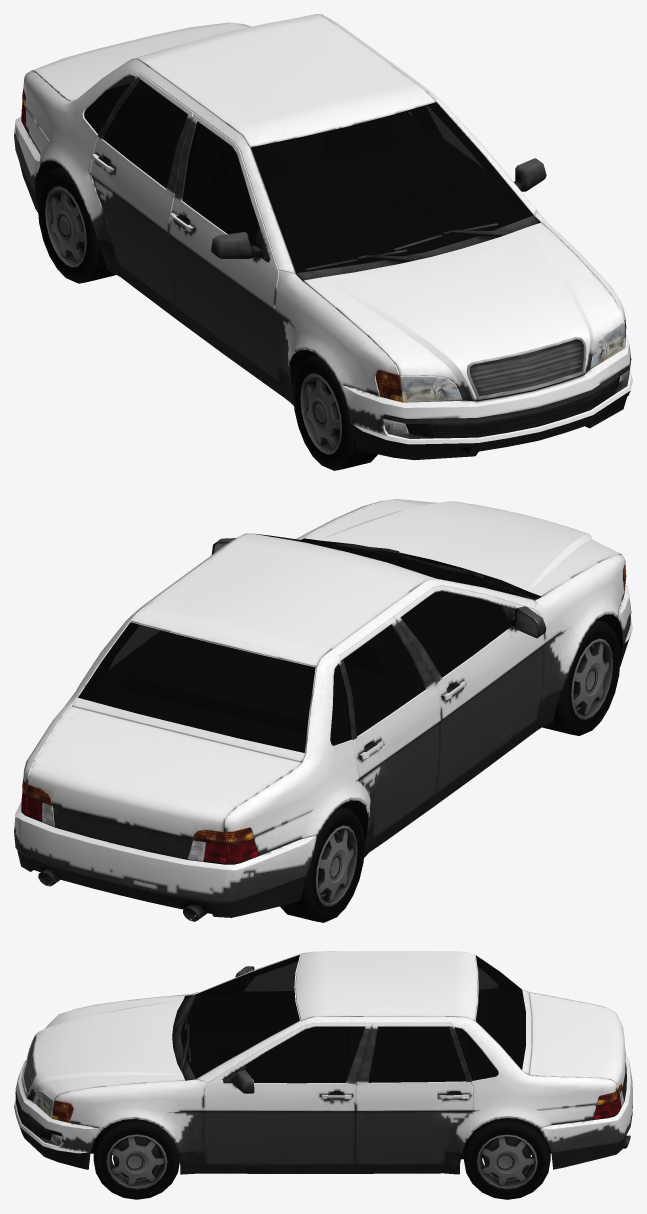
File: cmp_sedan.glb
3 views of the same model, one above another, from view 1: azimuth 30°, elevation 25°; view 2: azimuth 150°, elevation 25°; view 3: azimuth 270°, elevation 25° (orthographic). The views are drawn at different scales.
Parts seen in each view (by area): view 1: Sedan Body, Wheel_A002, Wheel_A003; view 2: Sedan Body, Wheel_A003, Wheel_A002; view 3: Sedan Body, Wheel_A001, Wheel_A.
Part boxes in pixels (bbox=[...]): Sedan Body: bbox=[14, 14, 632, 460]; Wheel_A002: bbox=[293, 354, 377, 470]; Wheel_A003: bbox=[37, 167, 115, 283]; Sedan Body: bbox=[14, 499, 632, 921]; Wheel_A003: bbox=[280, 806, 364, 922]; Wheel_A002: bbox=[542, 620, 620, 735]; Sedan Body: bbox=[14, 951, 632, 1174]; Wheel_A001: bbox=[464, 1118, 550, 1199]; Wheel_A: bbox=[93, 1119, 179, 1199].
Size of the model in its own units: 1.94 by 1.34 by 4.36.
Materials: 4 (3 with a texture image).
